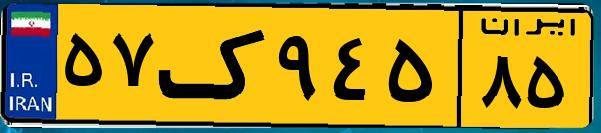4: (330, 28, 385, 110)
5: (385, 28, 445, 110), (57, 26, 110, 100), (525, 38, 570, 115)
7: (110, 28, 158, 98)
8: (475, 38, 525, 113)
9: (270, 28, 330, 110)
ک: (158, 12, 270, 120)
